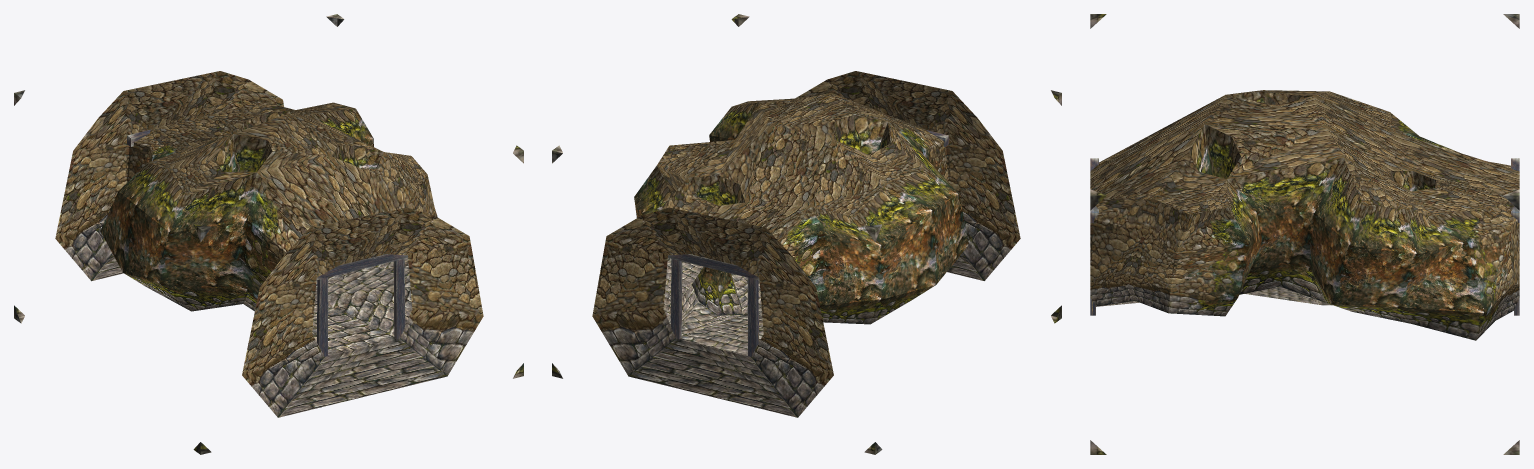
Rendered from Lbm_2c.glb.
3 renders of one model, left to right at view 1: azimuth 30°, elevation 25°; view 2: azimuth 150°, elevation 25°; view 3: azimuth 270°, elevation 25°, orthographic. The views are drawn at different scales.
Parts seen in each view (by area): view 1: Lbm_2c-col; view 2: Lbm_2c-col; view 3: Lbm_2c-col.
Part boxes in pixels (<box>): Lbm_2c-col: <box>14,14,523,454</box>; Lbm_2c-col: <box>552,14,1061,454</box>; Lbm_2c-col: <box>1090,14,1519,454</box>.
Size of the model in its own units: 15 by 10 by 15.
Materials: 9 (9 with a texture image).
